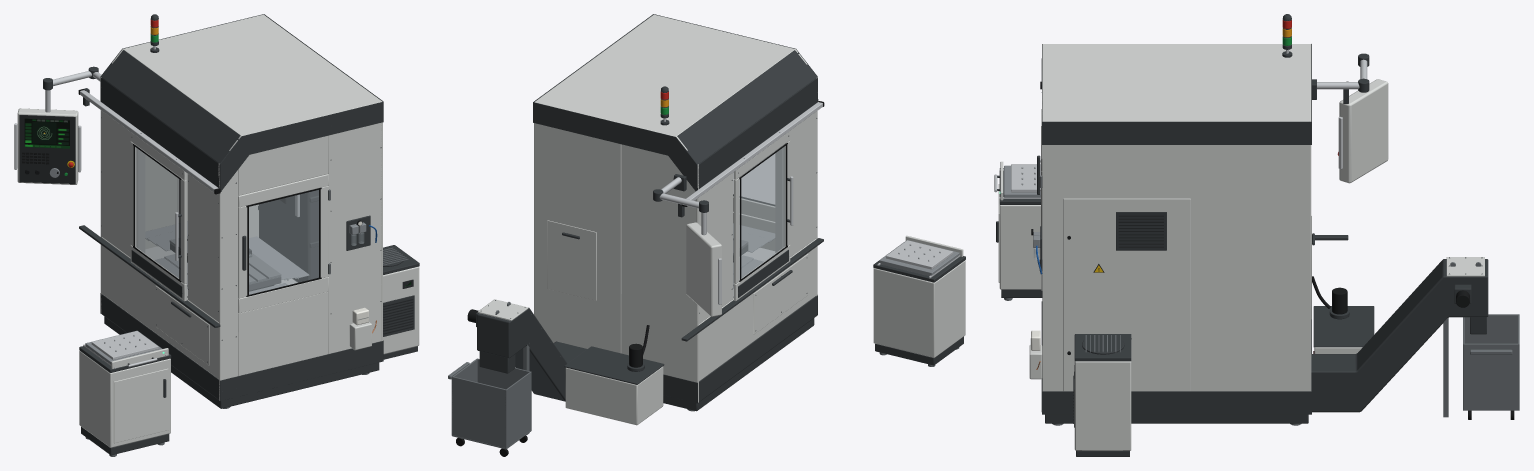
Rendered from cell_tend.glb.
The picture shows the model from 3 angles, left to right: view 1: azimuth 30°, elevation 25°; view 2: azimuth 150°, elevation 25°; view 3: azimuth 270°, elevation 25°; orthographic projection. The views are drawn at different scales.
Visible parts, largest first — view 1: cell_tend_grey_paint, cell_tend_graphite, cell_tend_glass, door_glass, cell_tend_alu, cell_tend_motor_cap, door_grey_paint, cell_tend_steel, cell_tend_screen_tend, cell_tend_inner, cell_tend_seal, door_graphite (+4 smaller); view 2: cell_tend_grey_paint, cell_tend_graphite, cell_tend_steel_dark, door_glass, cell_tend_alu, door_grey_paint, cell_tend_glass, cell_tend_inner, cell_tend_steel, cell_tend_alu_dark, door_graphite, door_seal; view 3: cell_tend_grey_paint, cell_tend_graphite, cell_tend_steel_dark, cell_tend_alu, cell_tend_motor_cap, cell_tend_motor, cell_tend_alu_dark.
Boxes of the visible parts, x1=… form: cell_tend_grey_paint: x1=17, y1=14, x2=419, y2=447; cell_tend_graphite: x1=43, y1=14, x2=419, y2=455; cell_tend_glass: x1=249, y1=190, x2=363, y2=294; door_glass: x1=135, y1=147, x2=178, y2=278; cell_tend_alu: x1=14, y1=46, x2=218, y2=368; cell_tend_motor_cap: x1=19, y1=115, x2=413, y2=334; door_grey_paint: x1=130, y1=132, x2=186, y2=301; cell_tend_steel: x1=145, y1=221, x2=309, y2=297; cell_tend_screen_tend: x1=24, y1=118, x2=411, y2=286; cell_tend_inner: x1=137, y1=147, x2=297, y2=297; cell_tend_seal: x1=246, y1=187, x2=321, y2=296; door_graphite: x1=131, y1=214, x2=182, y2=297; cell_tend_grey_paint: x1=477, y1=14, x2=965, y2=425; cell_tend_graphite: x1=476, y1=14, x2=965, y2=411; cell_tend_steel_dark: x1=448, y1=302, x2=959, y2=449; door_glass: x1=741, y1=146, x2=785, y2=278; cell_tend_alu: x1=659, y1=102, x2=960, y2=304; door_grey_paint: x1=733, y1=131, x2=790, y2=300; cell_tend_glass: x1=733, y1=154, x2=774, y2=206; cell_tend_inner: x1=733, y1=147, x2=782, y2=296; cell_tend_steel: x1=733, y1=223, x2=775, y2=297; cell_tend_alu_dark: x1=879, y1=240, x2=959, y2=276; door_graphite: x1=738, y1=178, x2=790, y2=297; door_seal: x1=739, y1=143, x2=787, y2=281; cell_tend_grey_paint: x1=998, y1=44, x2=1484, y2=450; cell_tend_graphite: x1=996, y1=14, x2=1488, y2=456; cell_tend_steel_dark: x1=1004, y1=175, x2=1519, y2=425; cell_tend_alu: x1=994, y1=49, x2=1367, y2=198; cell_tend_motor_cap: x1=1073, y1=215, x2=1163, y2=423; cell_tend_motor: x1=1067, y1=236, x2=1469, y2=354; cell_tend_alu_dark: x1=1004, y1=165, x2=1040, y2=247.
Bounding box in the file's own units: 3.15 × 2.72 × 3.71.
Materials: 35 (1 with a texture image).
